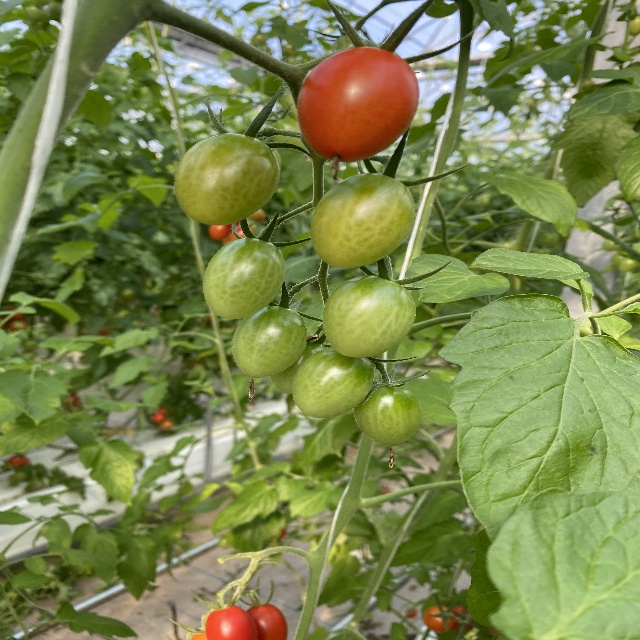l_fully_ripened: (297, 45, 419, 163), (204, 605, 257, 640), (247, 603, 288, 639)
l_green: (310, 172, 417, 268), (175, 131, 280, 225), (323, 274, 416, 358), (204, 236, 288, 318), (291, 346, 376, 418), (232, 304, 310, 379), (353, 380, 424, 447), (272, 341, 327, 394)
